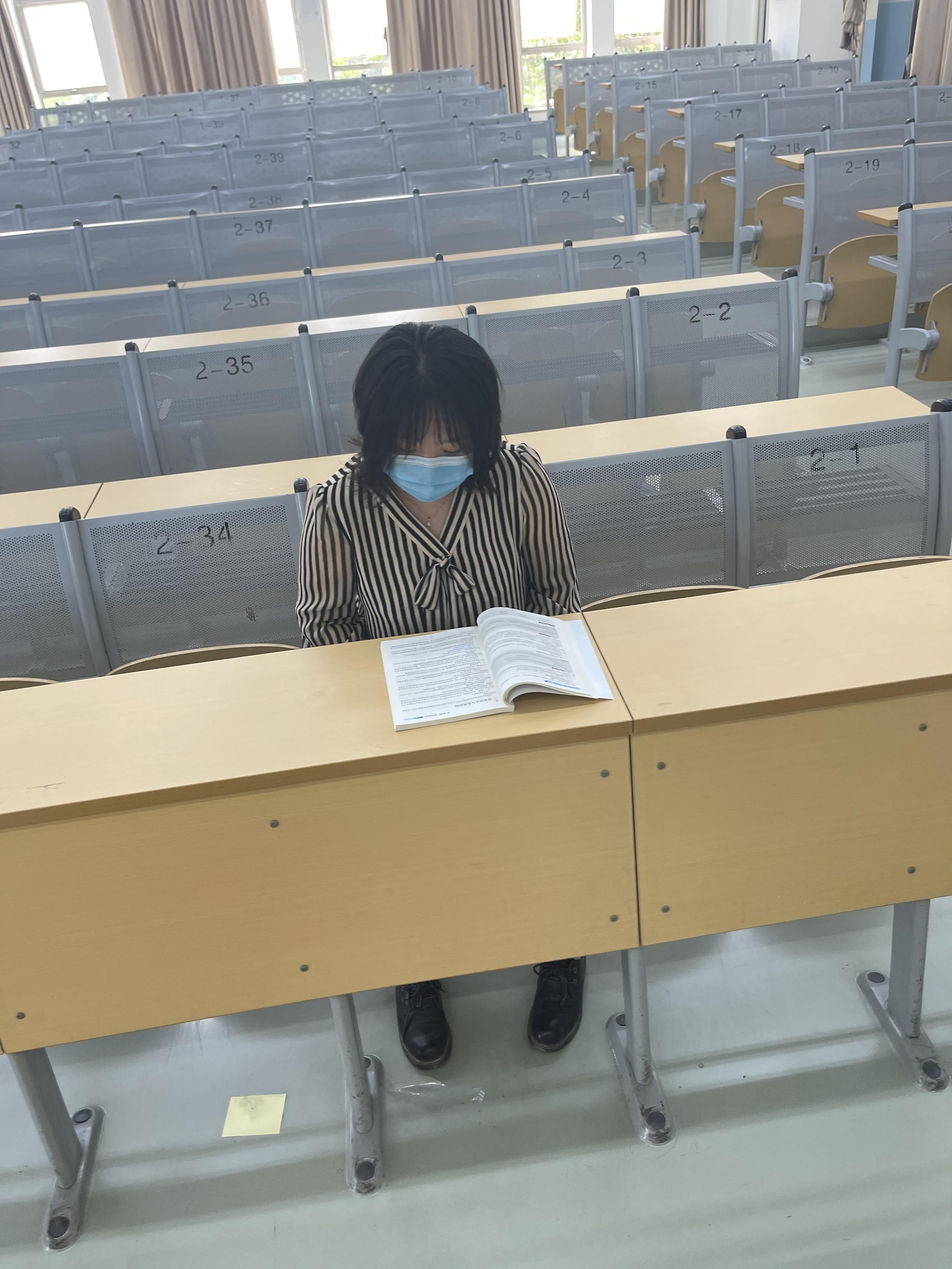study: (299, 329, 588, 699)
